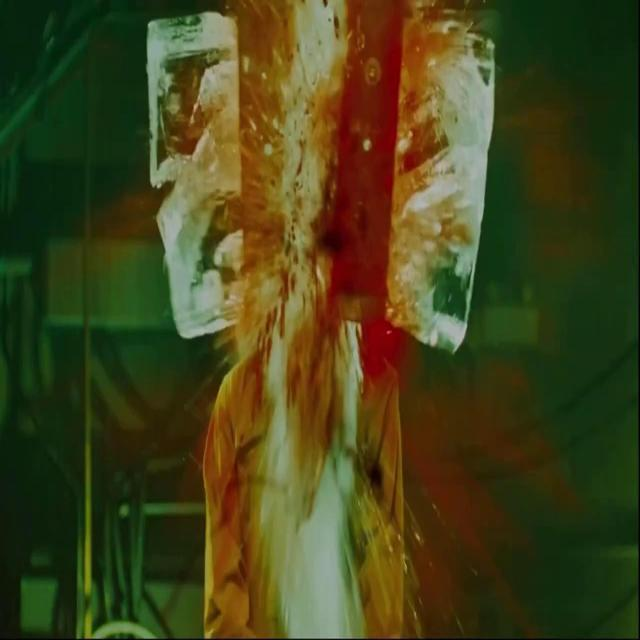flood: (226, 6, 506, 628)
